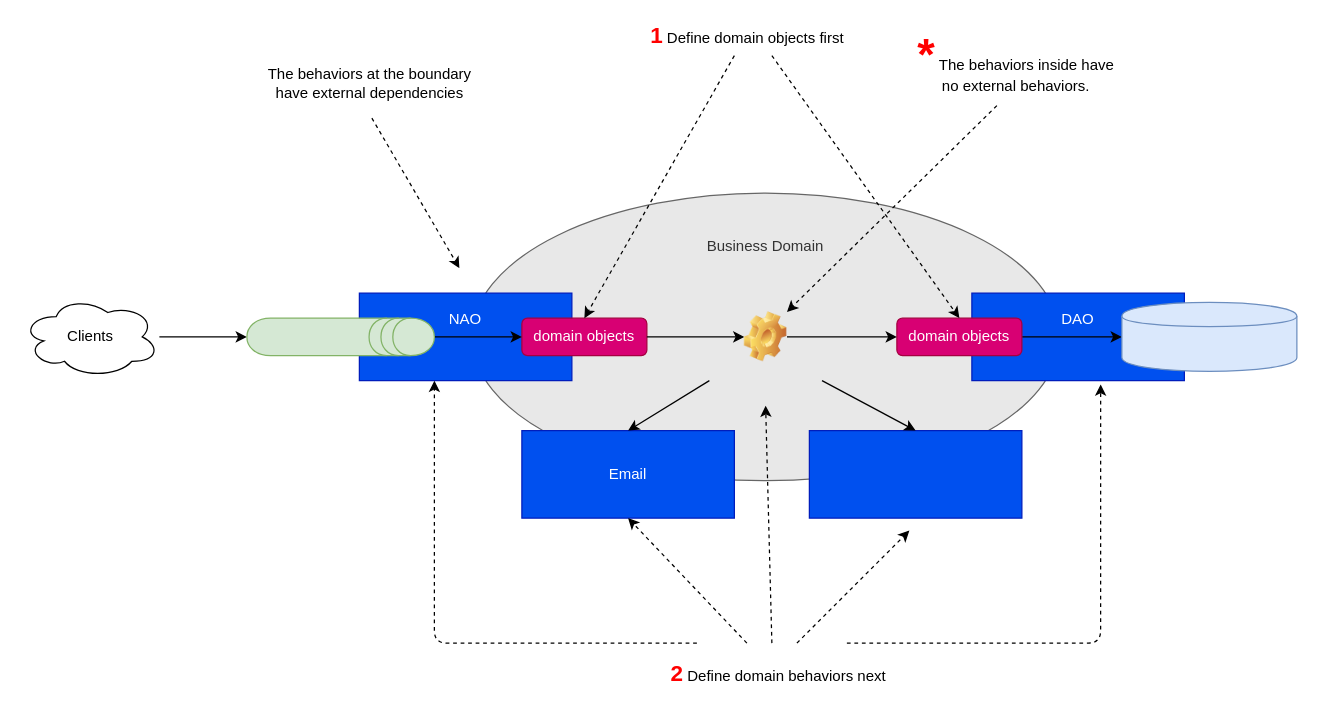
This 1319x709 diagram has some shape labels left out. Here are the shapes that lost their labels. From the top down, the centre of each, then its label:
point (340, 336): Request Handle
point (765, 336): Domain Logic
point (1209, 336): Database / Storage
point (915, 473): Phone SMS
